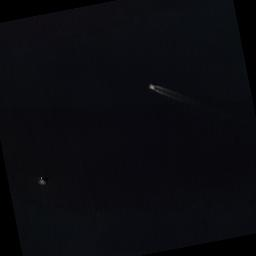boat: (38, 177, 46, 185), (148, 82, 156, 90)
